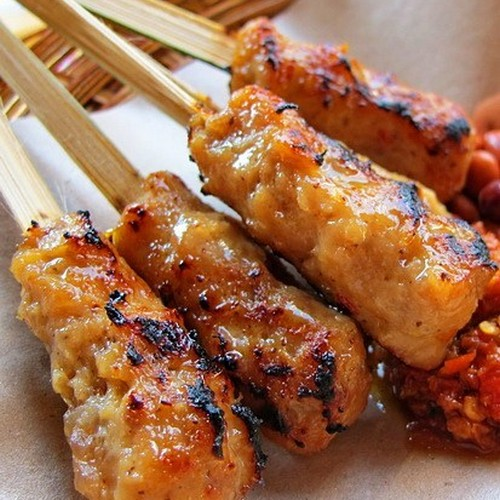sate languan: (106, 167, 397, 485), (184, 95, 500, 367), (10, 208, 260, 497), (231, 22, 478, 205)
